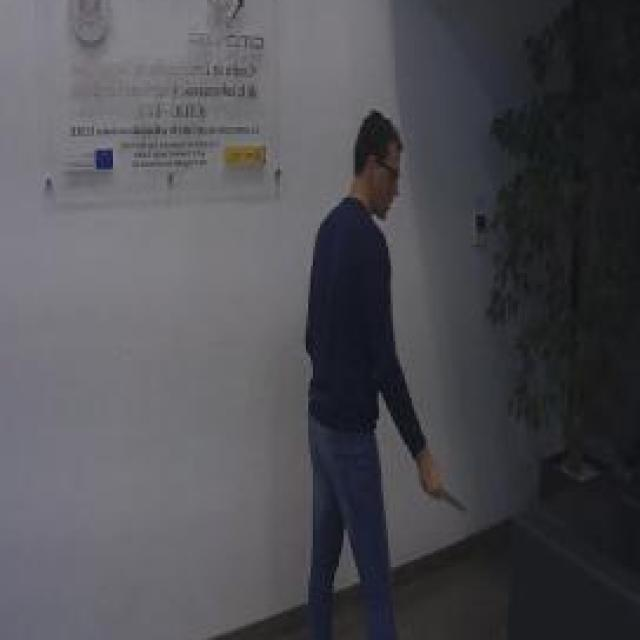knife: (421, 475, 473, 520)
